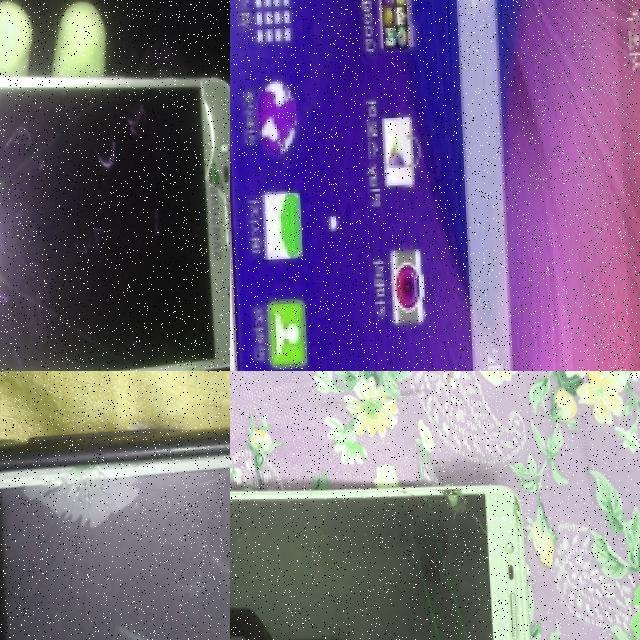screen crack: (0, 432, 230, 640), (383, 463, 523, 640), (180, 66, 230, 300)
